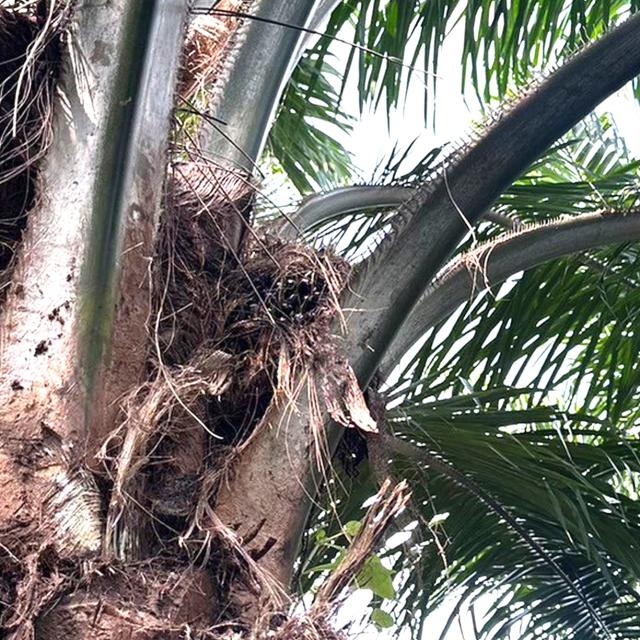unripe: (185, 239, 355, 454)
